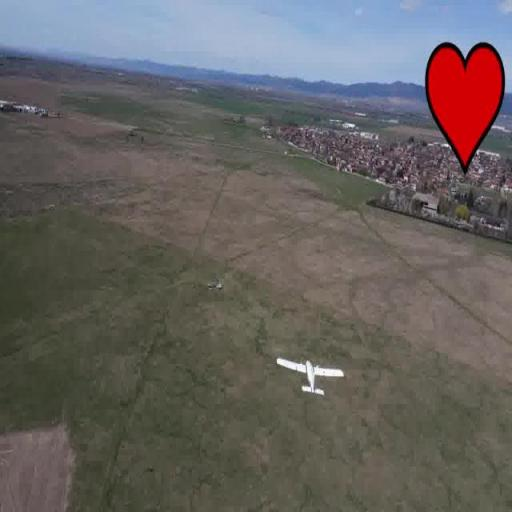uav: (275, 354, 347, 404)
